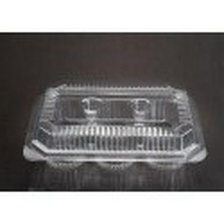plastic_box: (14, 68, 215, 180)
